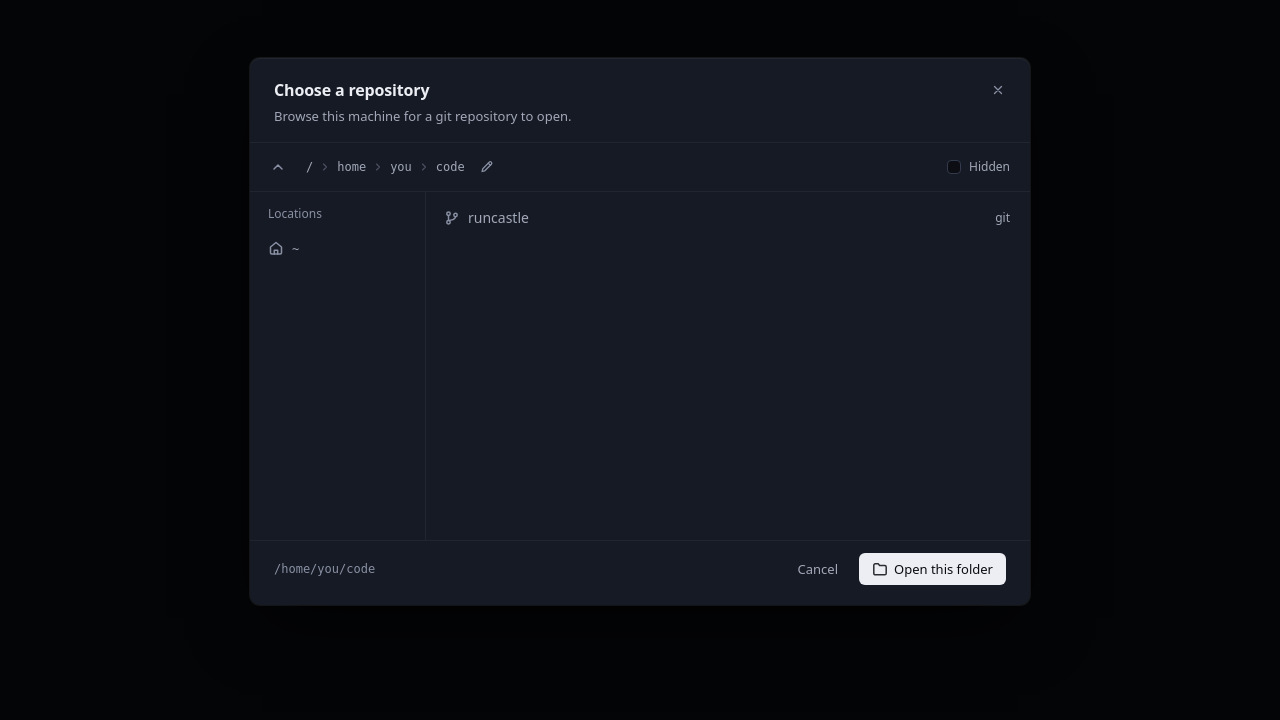
Test: DirectoryPicker › survives a drive that is not there at all, not only a missing folder
Click the element named "Current path" at coordinates (400, 167), box [302,155,499,179]
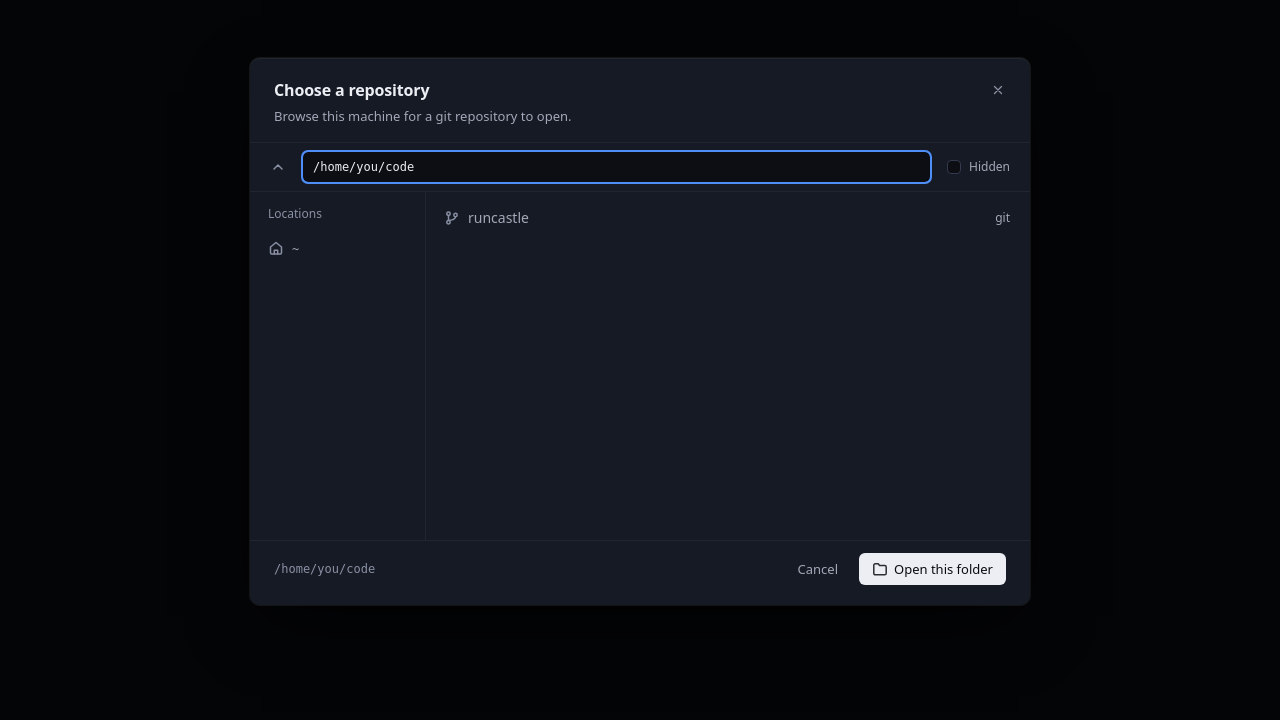
Replace the text in the field named "path" with "Z:\\nope\\deeper" at coordinates (617, 167), box [302,151,931,183]
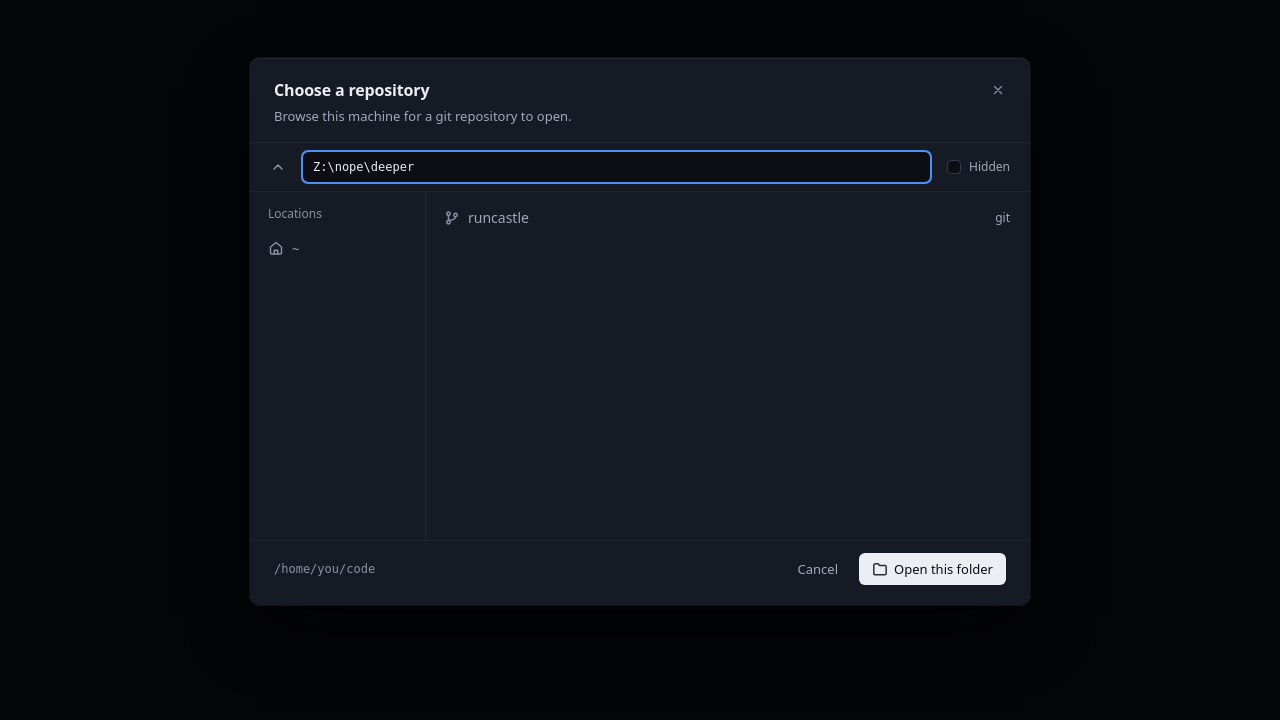
Press Enter in the field named "path", box [302,151,931,183]
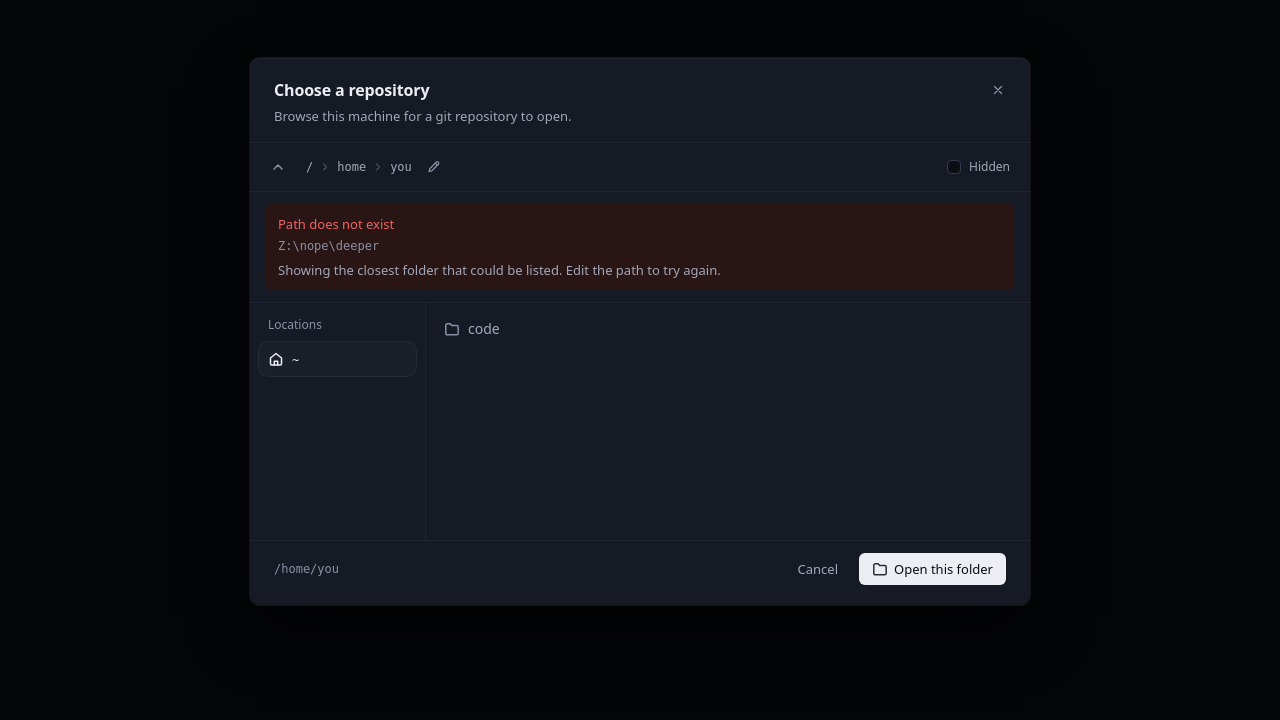
Expected: the button named "Up one level" is enabled, [262,151,294,183]
Expected: the element named "Current path" shows "you", [386,157,416,177]
Expected: the message shows "Z:\\nope\\deeper", [278,239,379,253]
